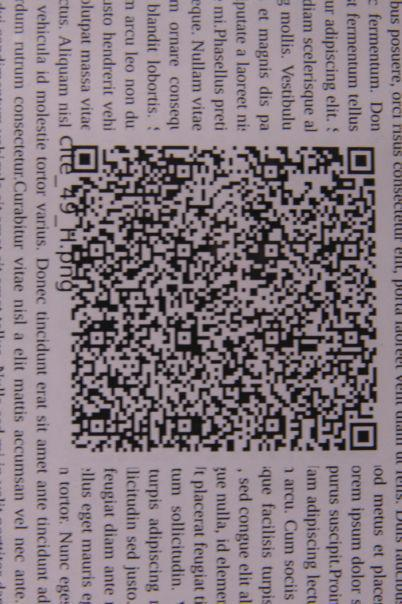Finder pattern: (341, 141, 379, 181), (67, 139, 104, 174), (344, 420, 383, 452)
